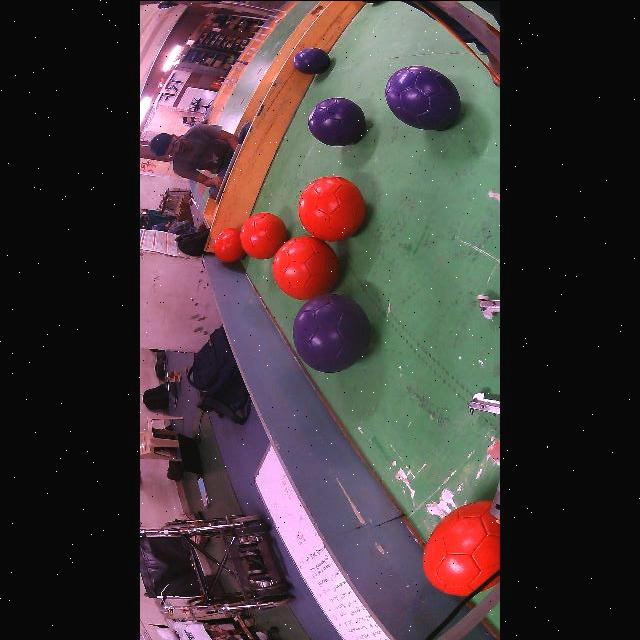P: (292, 292, 370, 371), (385, 65, 460, 130), (308, 96, 365, 145), (294, 48, 330, 74)
R: (424, 500, 499, 595), (272, 235, 339, 300), (299, 175, 365, 240), (240, 211, 288, 259), (214, 228, 246, 262)
